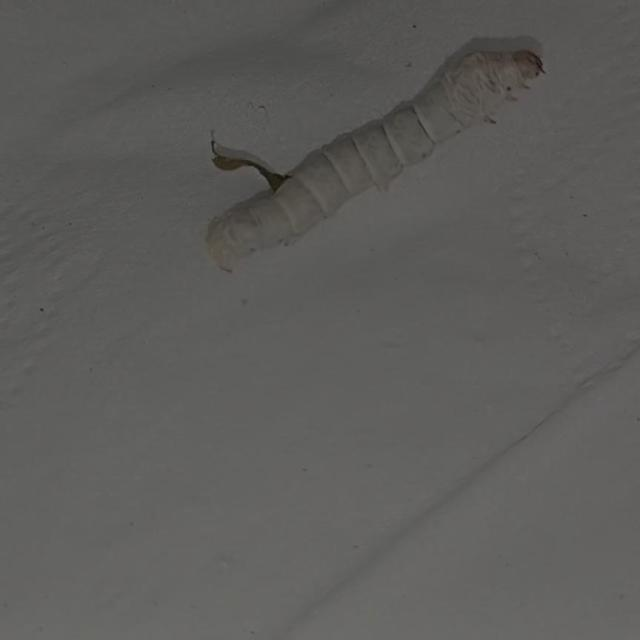Healthy: (184, 20, 585, 296)
